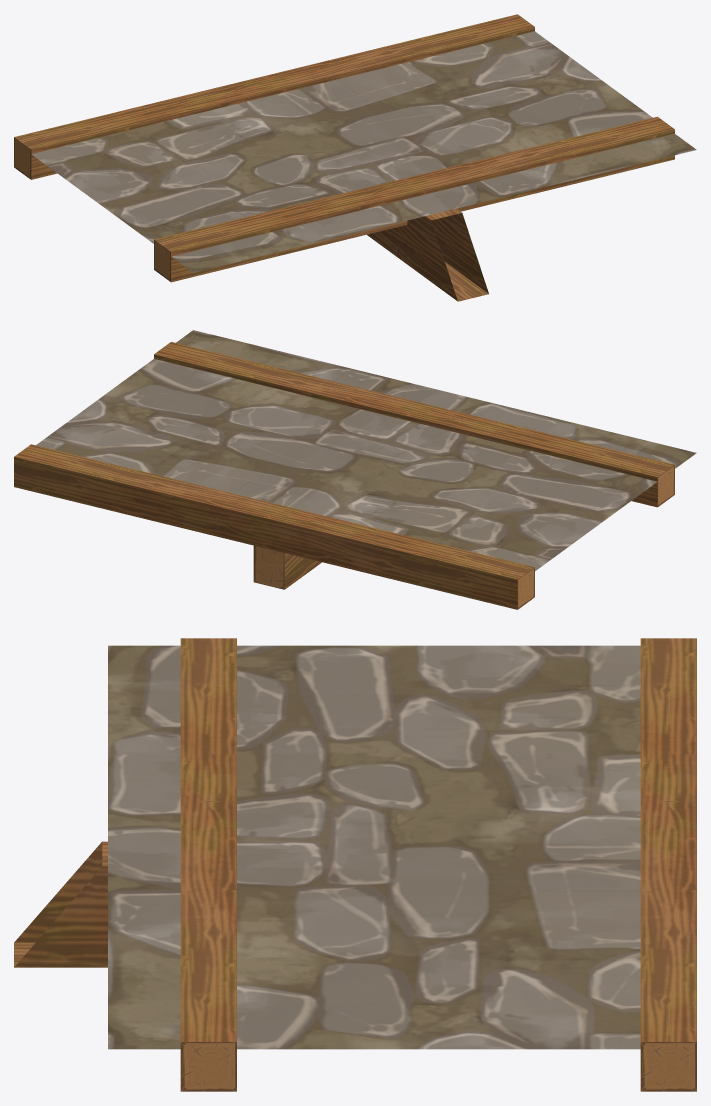
The model's file is Overhang_RoofIncline_UnevenBricks.gltf.
The picture shows the model from 3 angles, top to bottom: view 1: azimuth 30°, elevation 25°; view 2: azimuth 150°, elevation 25°; view 3: azimuth 270°, elevation 25°; orthographic projection. The views are drawn at different scales.
Visible parts, largest first — view 1: Overhang_RoofIncline_UnevenBricks; view 2: Overhang_RoofIncline_UnevenBricks; view 3: Overhang_RoofIncline_UnevenBricks.
Boxes of the visible parts, x1,y1,x2,y2 form: Overhang_RoofIncline_UnevenBricks: (14, 14, 696, 301); Overhang_RoofIncline_UnevenBricks: (14, 330, 696, 609); Overhang_RoofIncline_UnevenBricks: (14, 638, 696, 1091).
Size of the model in its own units: 2 by 0.2659 by 1.43.
Materials: 2 (2 with a texture image).
